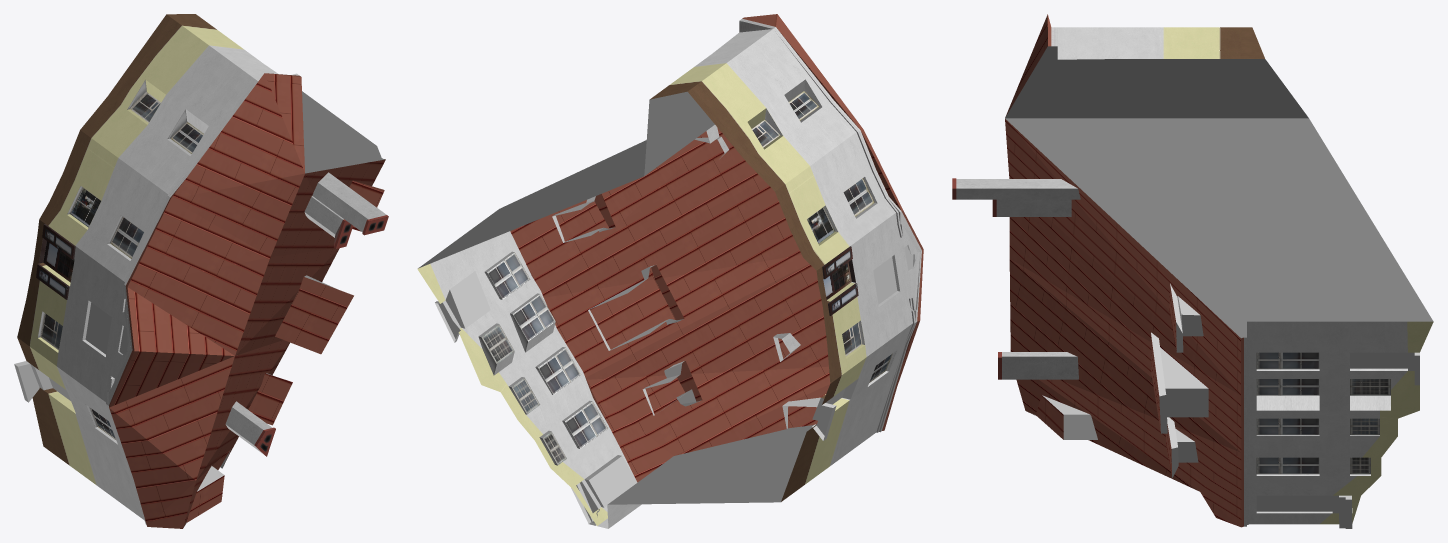
File: Pikk_jalg_7-origo.obj
The picture shows the model from 3 angles, left to right: view 1: azimuth 30°, elevation 25°; view 2: azimuth 150°, elevation 25°; view 3: azimuth 270°, elevation 25°; orthographic projection. The views are drawn at different scales.
Visible parts, largest first — view 1: Pikk_jalg_7; view 2: Pikk_jalg_7; view 3: Pikk_jalg_7.
Boxes of the visible parts, x1=… form: Pikk_jalg_7: x1=14, y1=14, x2=388, y2=528; Pikk_jalg_7: x1=417, y1=14, x2=923, y2=528; Pikk_jalg_7: x1=952, y1=14, x2=1433, y2=528.
Bounding box in the file's own units: 15 × 18 × 16.21.
